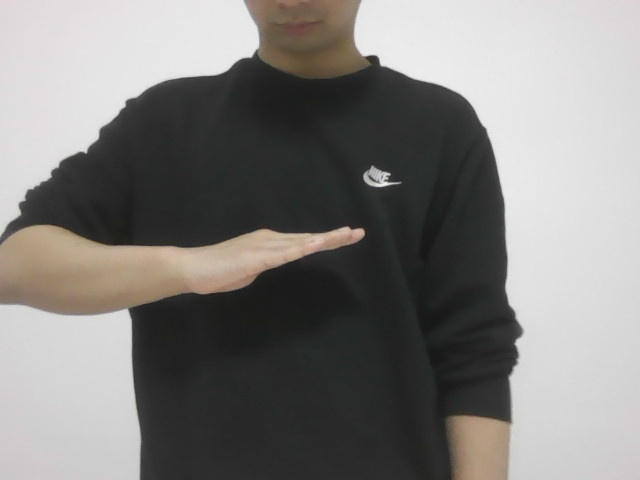safe: (178, 215, 368, 298)
